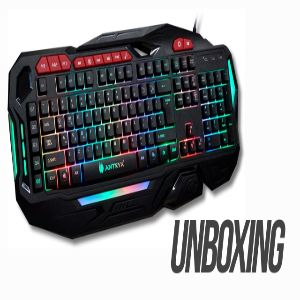keyboard: (7, 29, 242, 214)
